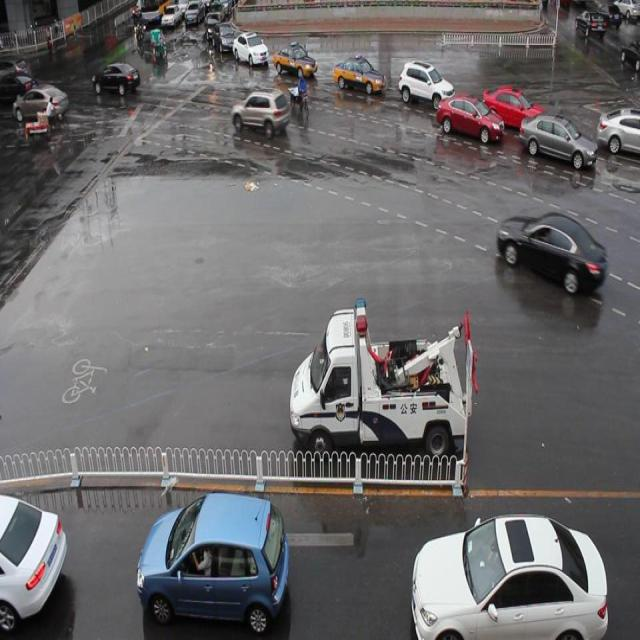bus: (289, 295, 477, 464)
car: (410, 508, 607, 640), (136, 488, 290, 640), (1, 490, 69, 634), (495, 208, 605, 292), (518, 111, 596, 172), (436, 91, 503, 144), (482, 81, 545, 129), (397, 58, 455, 110), (231, 87, 290, 138), (594, 106, 640, 158), (333, 53, 386, 98), (274, 40, 318, 80), (232, 28, 268, 69), (215, 19, 238, 56)
